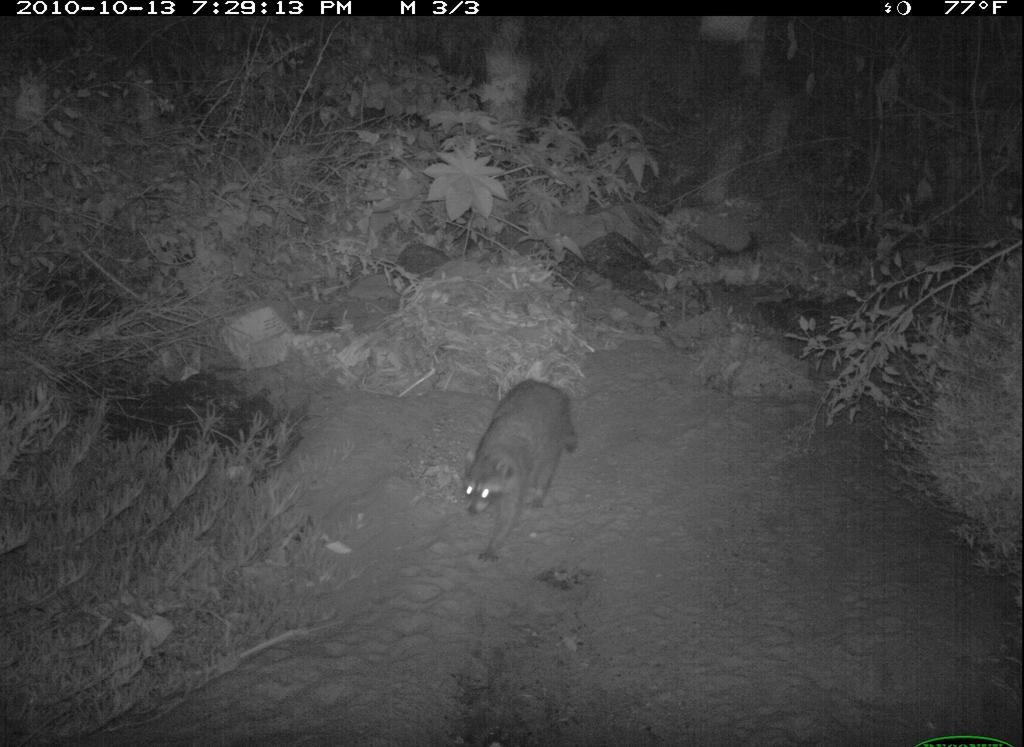raccoon: (452, 373, 589, 573)
